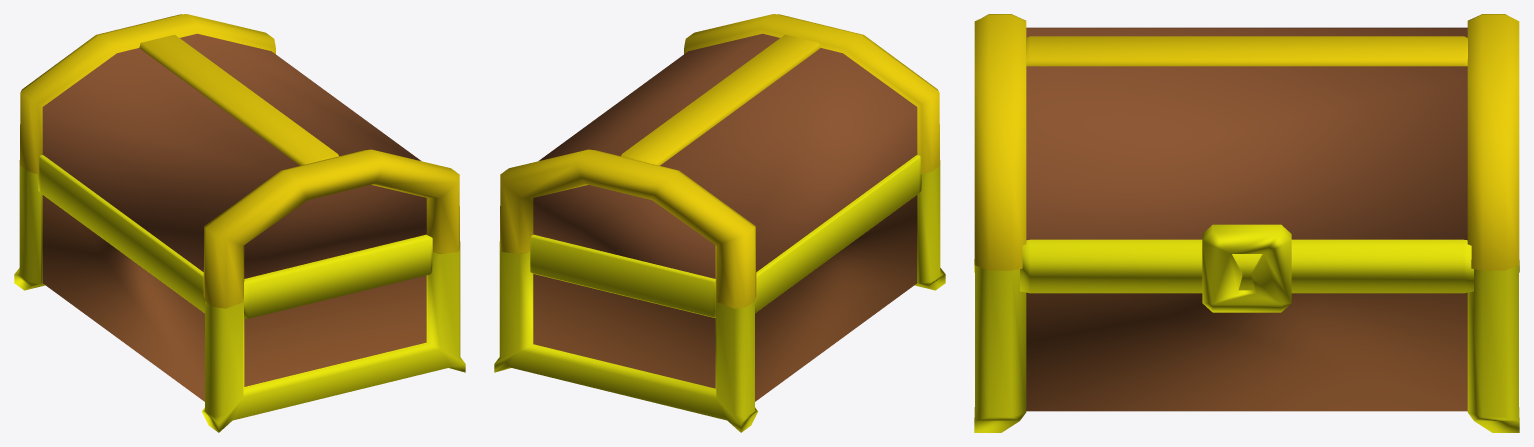
The model's file is Slop_Chest.fbx.
3 views of the same model, side by side, from view 1: azimuth 30°, elevation 25°; view 2: azimuth 150°, elevation 25°; view 3: azimuth 270°, elevation 25° (orthographic). The views are drawn at different scales.
Visible parts, largest first — view 1: Cube.002, Cube.006; view 2: Cube.002, Cube.006; view 3: Cube.002, Cube.006.
Part boxes in pixels (x1=…): Cube.002: x1=19, y1=14, x2=460, y2=308; Cube.006: x1=14, y1=155, x2=465, y2=432; Cube.002: x1=499, y1=14, x2=940, y2=308; Cube.006: x1=494, y1=155, x2=945, y2=432; Cube.002: x1=974, y1=14, x2=1519, y2=270; Cube.006: x1=974, y1=224, x2=1519, y2=432.
Bounding box in the file's own units: 219 × 194 × 310.
